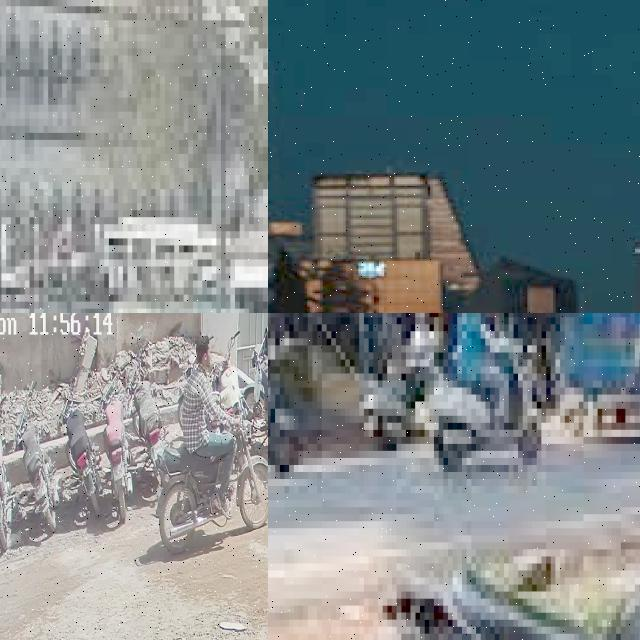bike: (308, 465, 640, 640), (152, 424, 268, 552), (14, 380, 59, 530), (61, 367, 103, 518), (126, 326, 165, 465), (100, 361, 134, 519), (242, 323, 268, 470), (211, 330, 242, 414), (0, 396, 12, 551)
